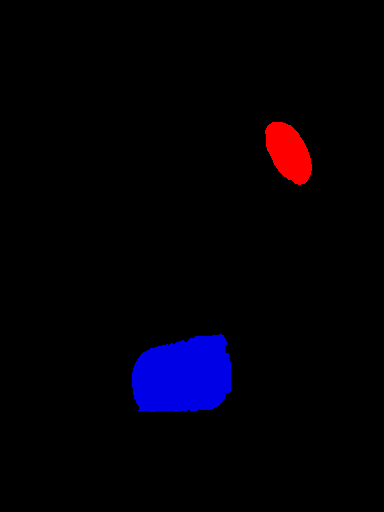cup: (129, 332, 233, 416)
speaker: (264, 121, 312, 186)
